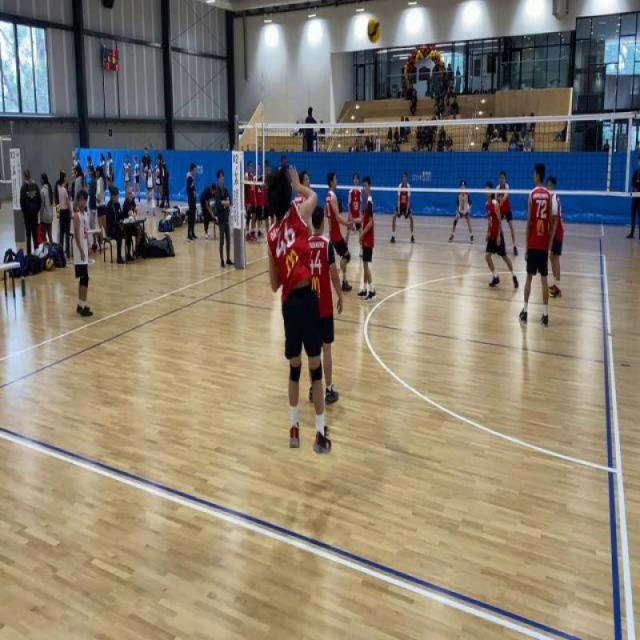volleyball: (365, 15, 382, 45), (46, 257, 54, 272), (55, 203, 62, 214), (163, 231, 170, 238), (147, 233, 154, 240), (143, 172, 147, 183)
